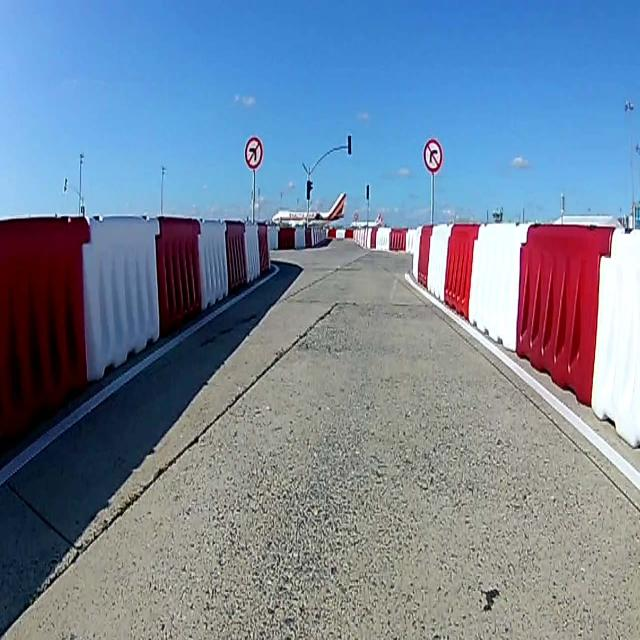sagadonulmez: (424, 138, 442, 170)
soladonulmez: (245, 137, 262, 166)
